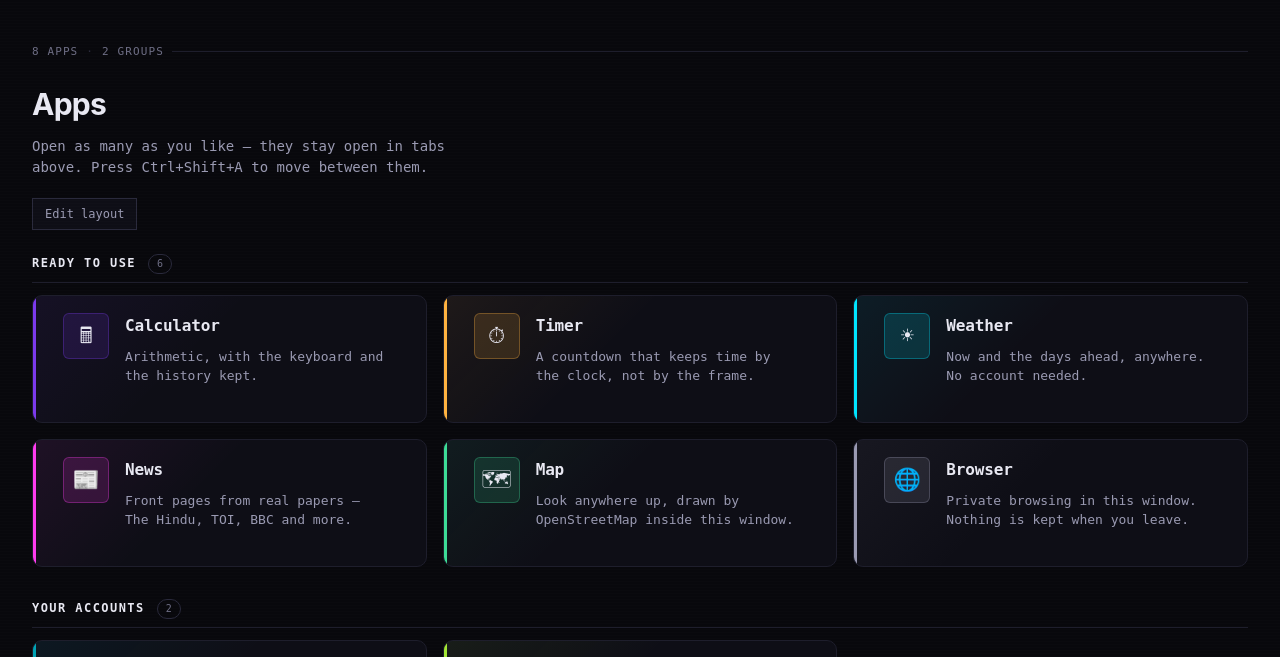
Test: Apps › the layout editor › brings everything back
What coordinates should you click on to do the following:
click the button "Edit layout"
I would click on:
 (85, 214)
Its box is left=32, top=198, right=138, bottom=230.
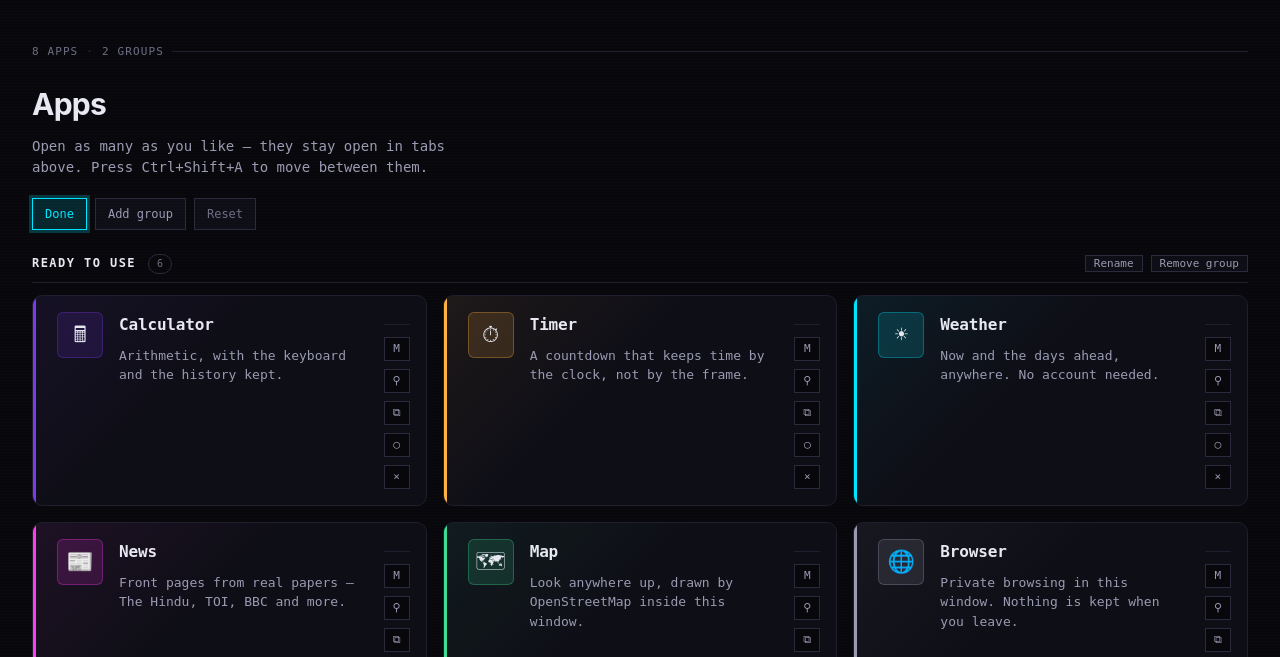
What coordinates should you click on to do the following:
click the button named "hide"
I would click on:
 (397, 445)
Its box is left=384, top=433, right=410, bottom=457.
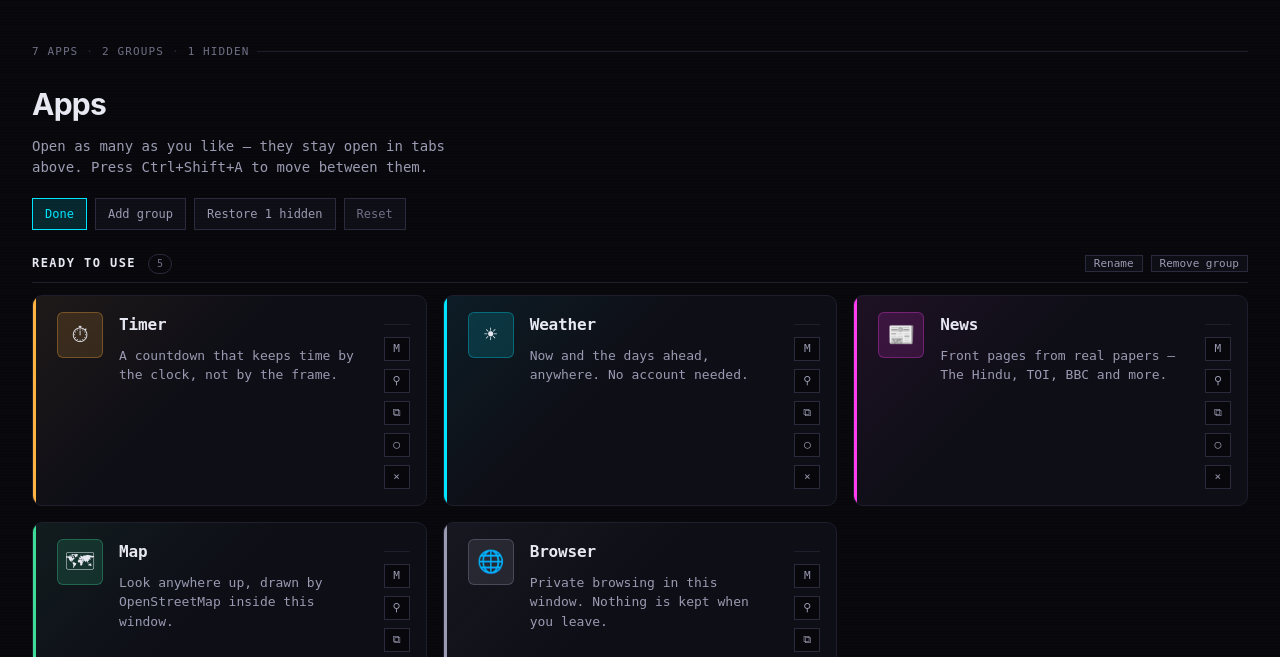
Now the header "apps" shows "1 hidden", box left=32, top=45, right=445, bottom=230
What coordinates should you click on to do the following:
click the button "Restore 1 hidden"
I would click on:
 (265, 214)
Its box is left=194, top=198, right=336, bottom=230.
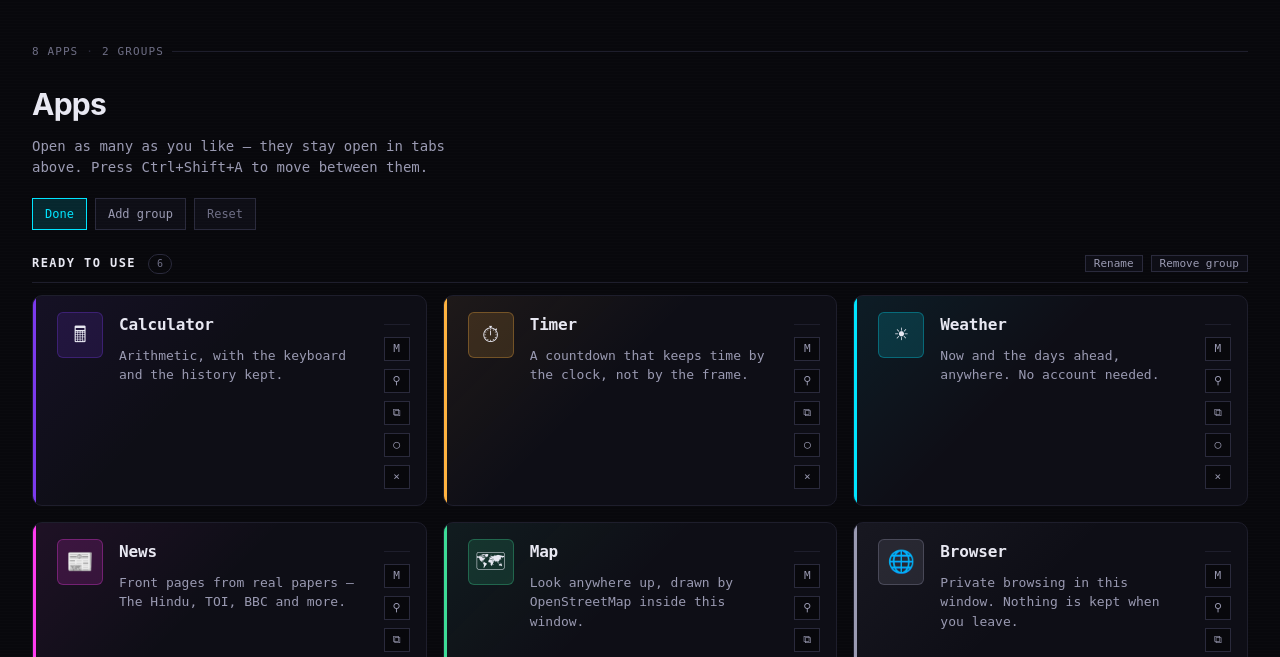
Now the element "Calculator" is shown, box left=32, top=295, right=427, bottom=506
